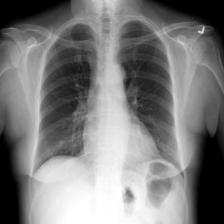normal: (30, 18, 188, 184)
